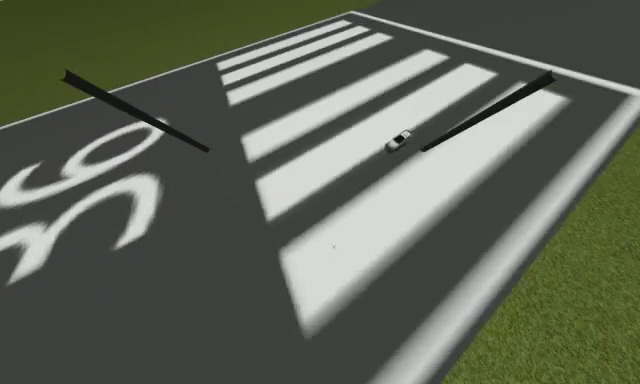Car: (385, 129, 413, 152)
